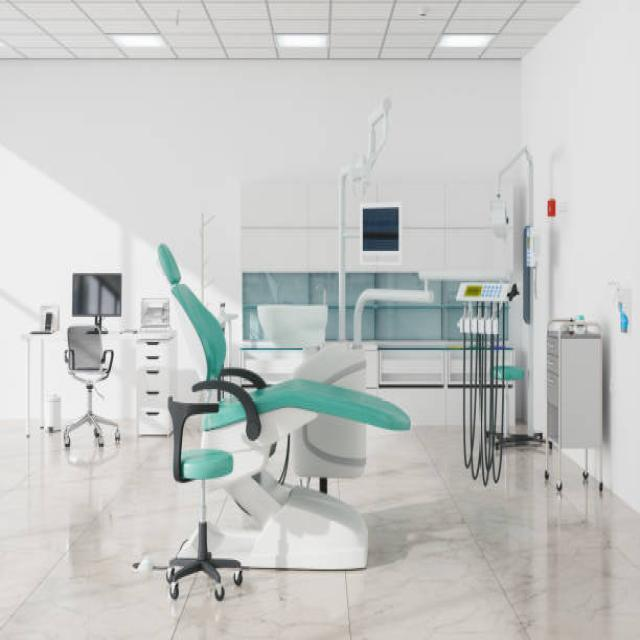Monitor: (53, 255, 131, 339), (358, 184, 414, 256)
bed: (154, 240, 424, 581)
chair: (149, 401, 264, 602), (55, 315, 134, 463)
